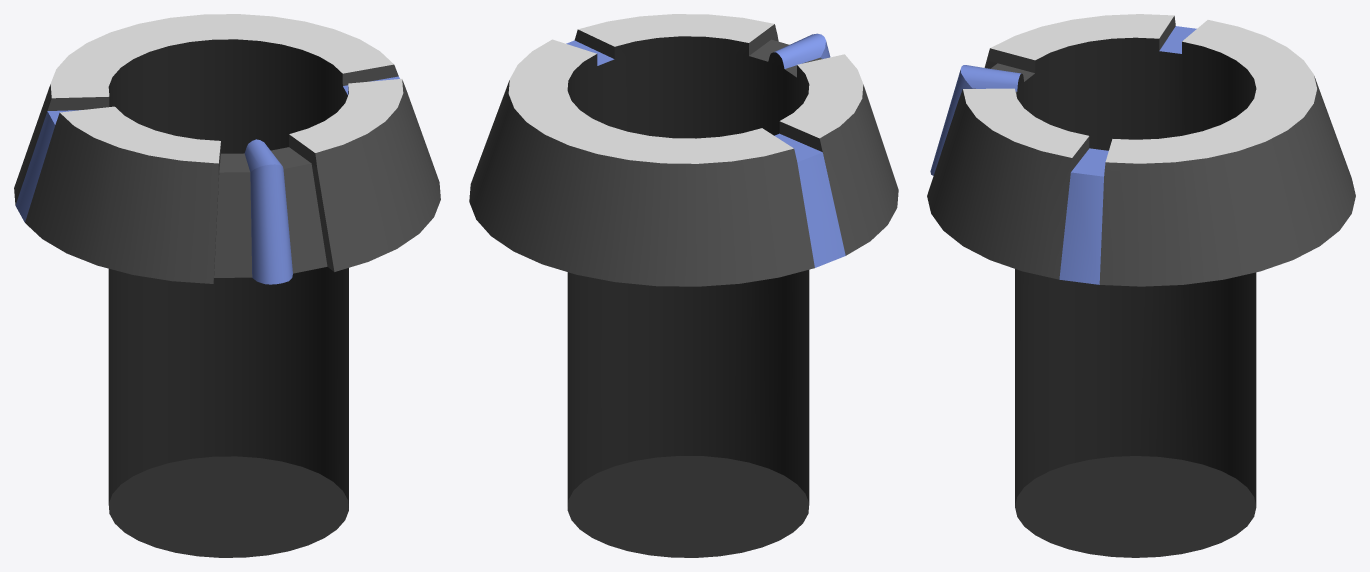
Rendered from Module Cover.fbx.
3 renders of one model, left to right at view 1: azimuth 30°, elevation 25°; view 2: azimuth 150°, elevation 25°; view 3: azimuth 270°, elevation 25°, orthographic.
Visible parts, largest first — view 1: Cover; view 2: Cover; view 3: Cover.
Part boxes in pixels (<box>): Cover: <box>14,14,440,557</box>; Cover: <box>469,14,898,557</box>; Cover: <box>927,14,1355,557</box>.
Bounding box in the file's own units: 17.76 × 19.11 × 17.76.
